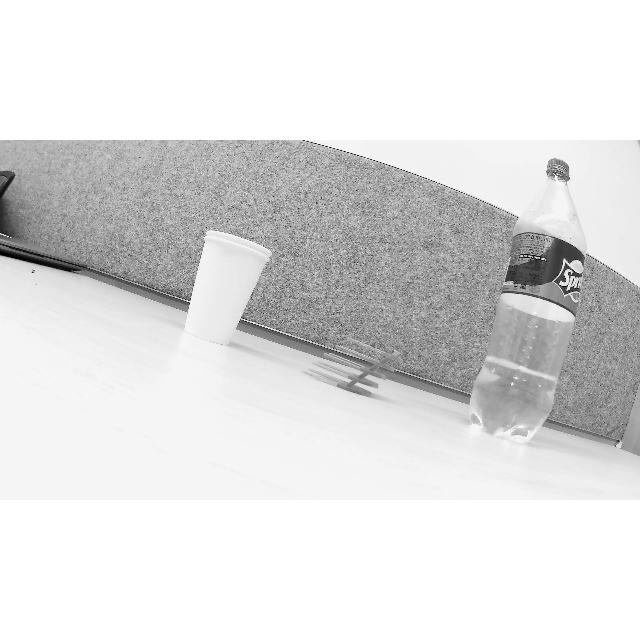targets: (470, 158, 586, 444), (182, 226, 274, 348), (300, 336, 400, 396)
